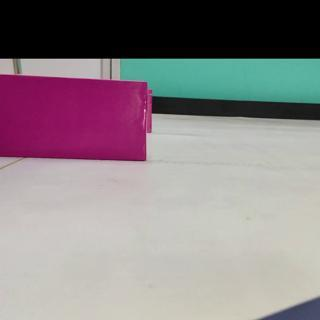xparking: (3, 85, 147, 163)
